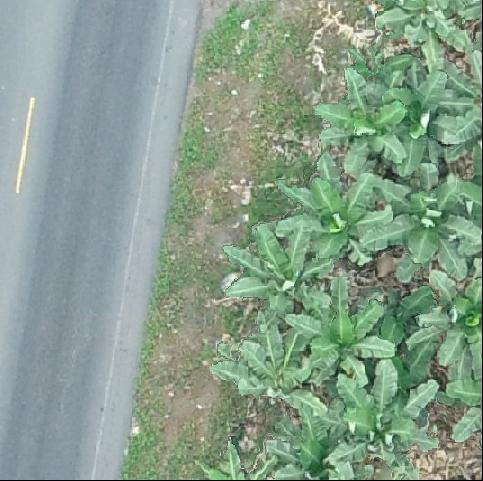Banana-plant: (370, 165, 483, 277), (272, 154, 386, 254), (376, 69, 476, 171), (332, 364, 437, 455), (221, 223, 333, 308), (289, 279, 390, 373), (320, 73, 402, 167), (230, 334, 325, 415), (273, 418, 370, 481), (426, 275, 483, 371)
